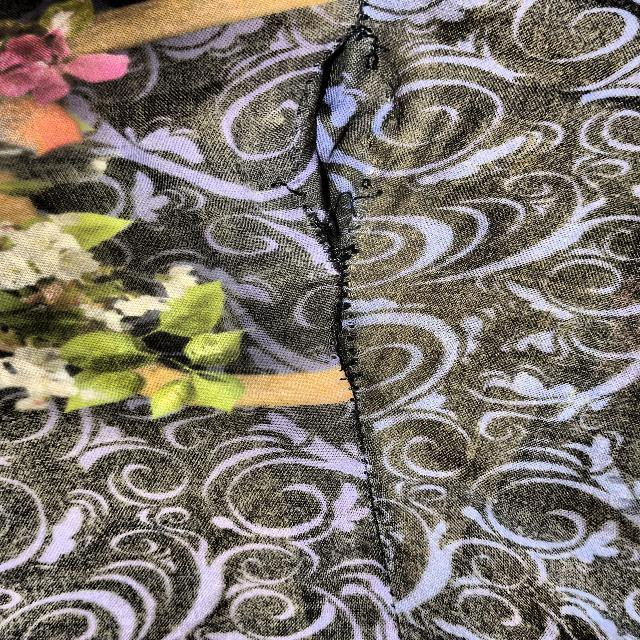gray stitch: (213, 11, 473, 479)
